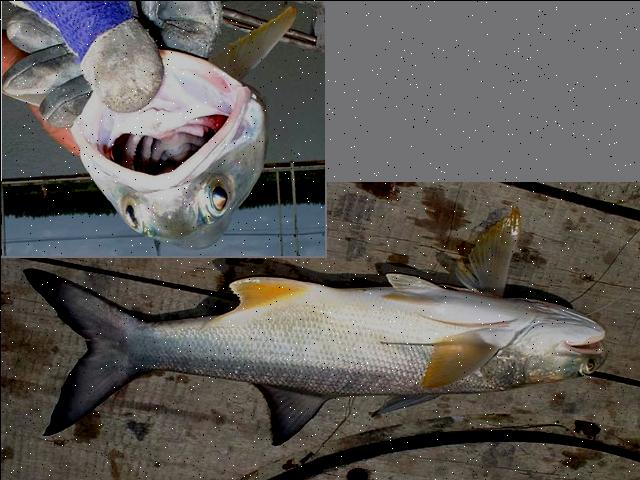Mulut: (65, 38, 267, 198), (556, 308, 620, 390)
Sirip Anal: (210, 259, 322, 321)
Sirip Dada: (200, 0, 308, 102), (443, 193, 529, 305), (402, 316, 522, 394)
Sirip Perut: (372, 258, 446, 310)
Sirip Punggung: (10, 262, 160, 448), (239, 365, 447, 453)
